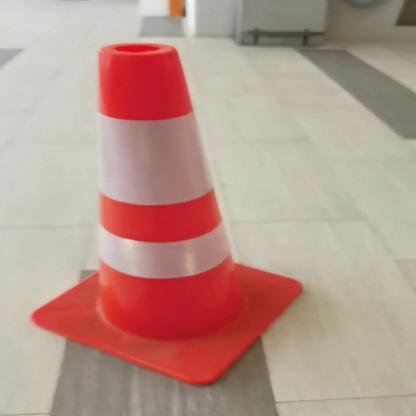cone: (21, 33, 306, 386)
